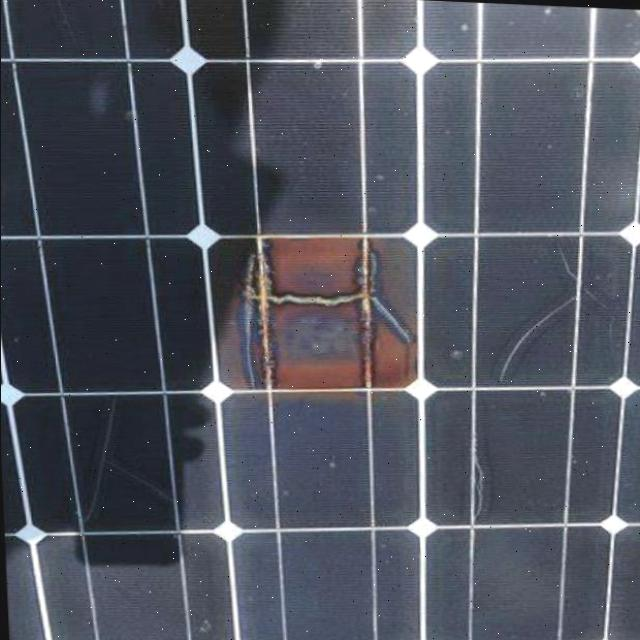Structural Damage: (83, 395, 191, 542), (491, 281, 580, 380), (350, 249, 419, 348), (580, 278, 625, 340), (241, 251, 257, 389), (268, 293, 364, 307), (551, 235, 580, 279), (475, 452, 488, 519)
